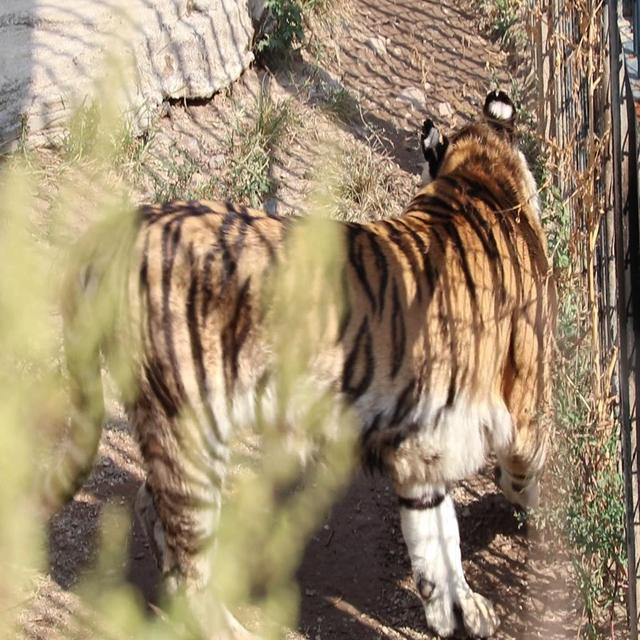tiger: (53, 88, 559, 639)
